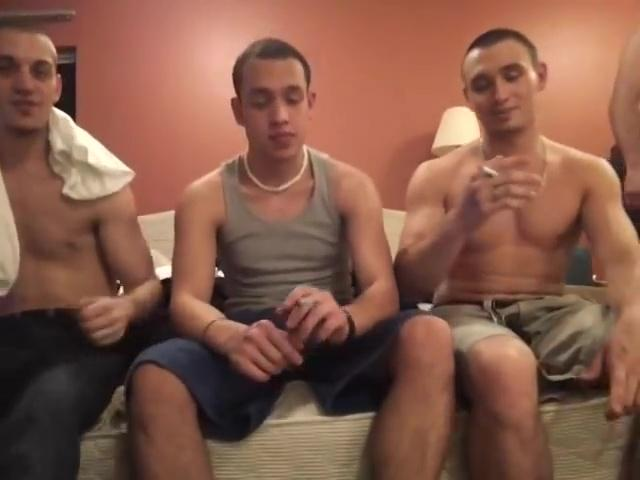cigarette: (478, 165, 507, 181)
